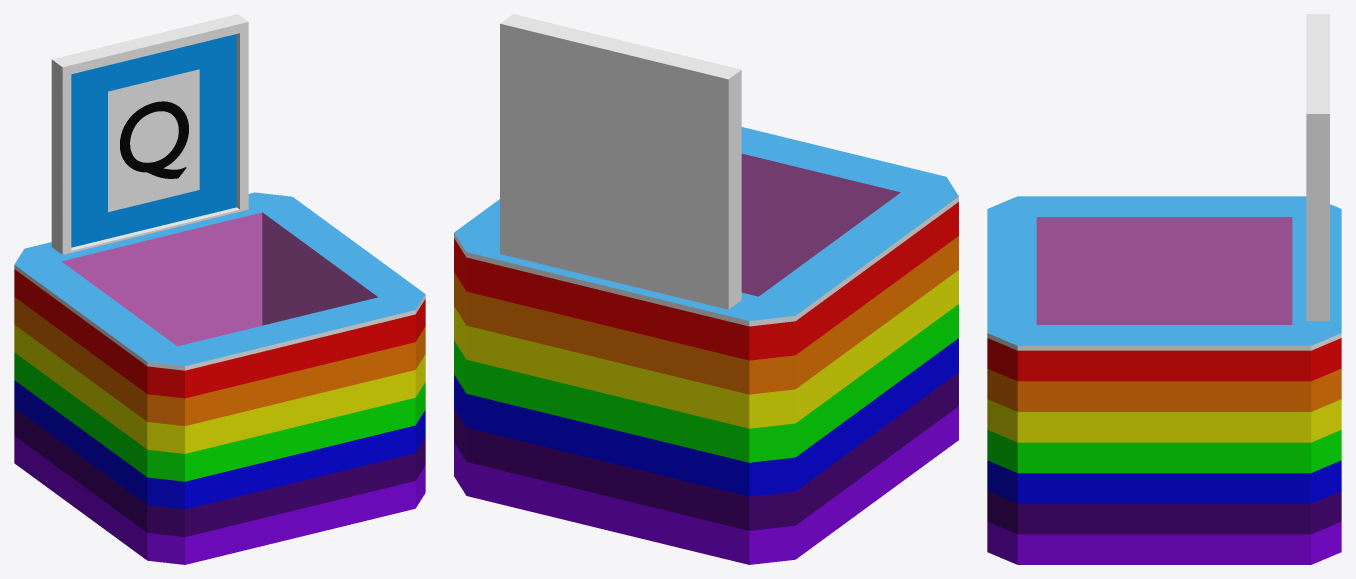
3 renders of one model, left to right at view 1: azimuth 30°, elevation 25°; view 2: azimuth 150°, elevation 25°; view 3: azimuth 270°, elevation 25°, orthographic. The views are drawn at different scales.
Visible parts, largest first — view 1: Cube.001, Text; view 2: Cube.001; view 3: Cube.001.
Part boxes in pixels (x1,y1,x2,y2): Cube.001: [14, 14, 425, 564]; Text: [120, 101, 188, 178]; Cube.001: [454, 14, 958, 564]; Cube.001: [987, 14, 1341, 564].
Size of the model in its own units: 383 by 508 by 383.
